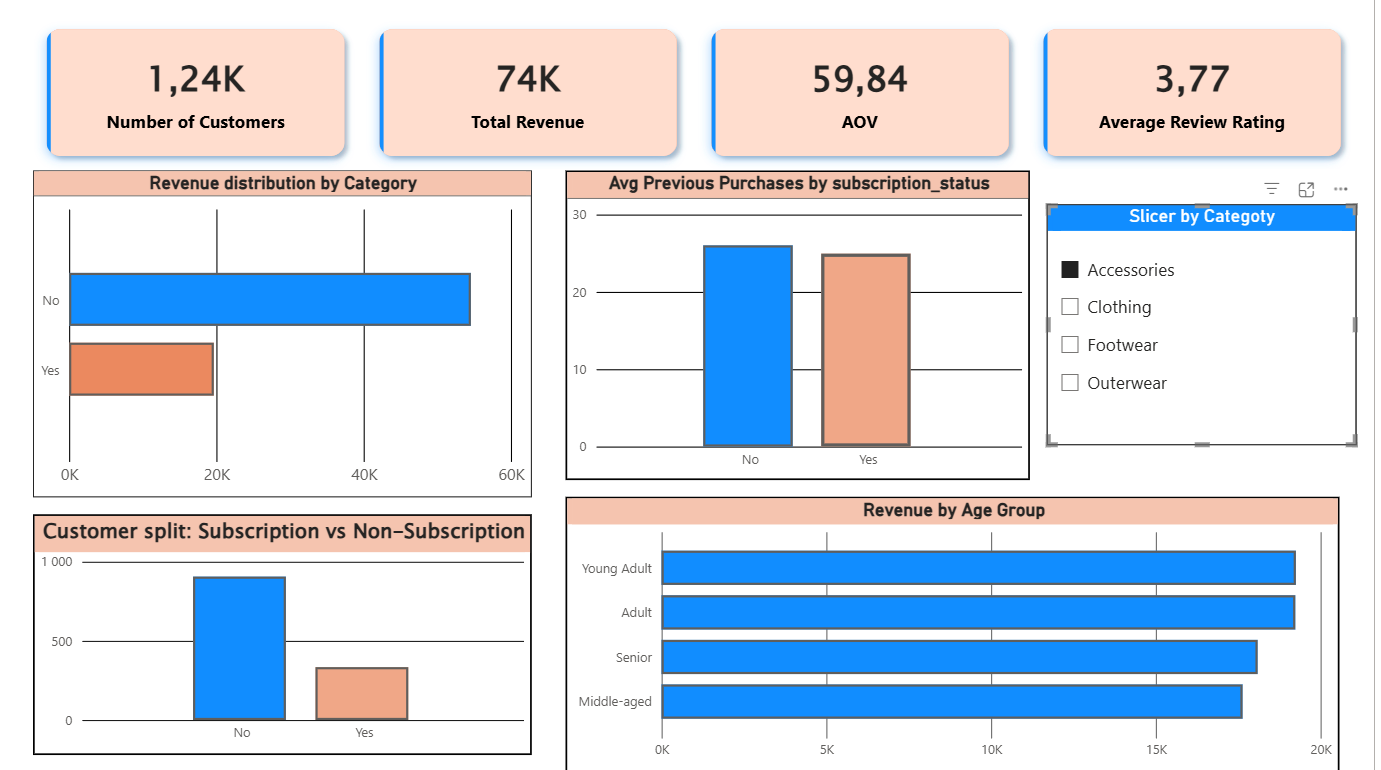

Layout of this report page (visuals, bound fields, positions):
{"tool":"powerbi","page":{"name":"Страница 1","canvas":[1280,720],"ordinal":0},"visuals":[{"type":"cardVisual","fields":{"Data":["public customer.Number of Customers","public customer.Total Revenue","public customer.AOV","public customer.Average Review Rating"]},"box":[16,0,1264,176],"z":0},{"type":"clusteredColumnChart","title":"Customer split: Subscription vs Non-Subscription","fields":{"Category":["public customer.subscription_status"],"Y":["CountNonNull(public customer.customer_id)"]},"box":[32,480,464,224],"z":1000},{"type":"clusteredBarChart","title":"Revenue distribution by Category","fields":{"Category":["public customer.subscription_status"],"Y":["Sum(public customer.purchase_amount)"]},"box":[32,160,464,304],"z":2000},{"type":"clusteredColumnChart","title":"Avg Previous Purchases by subscription_status","fields":{"Category":["public customer.subscription_status"],"Y":["public customer.Avg Previous Purchases"]},"box":[528,160,432,288],"z":3000},{"type":"clusteredBarChart","title":"Revenue by Age Group","fields":{"Category":["public customer.age_group"],"Y":["Sum(public customer.purchase_amount)"]},"box":[528,464,720,256],"z":4000},{"type":"slicer","title":"Slicer by Categoty","fields":{"Values":["public customer.category"]},"box":[976,192,288,224],"z":5000}]}

Visuals, with their boxes in screenshot pixels (x1, y1, x2, y2), scaled from the page's 1280x720 canvas onto the 1381x770 screenshot:
cardVisual - public customer.Number of Customers x public customer.Total Revenue: box(17, 0, 1380, 188)
"Customer split: Subscription vs Non-Subscription" clusteredColumnChart: box(35, 513, 535, 753)
"Revenue distribution by Category" clusteredBarChart: box(35, 171, 535, 496)
"Avg Previous Purchases by subscription_status" clusteredColumnChart: box(570, 171, 1036, 479)
"Revenue by Age Group" clusteredBarChart: box(570, 496, 1346, 769)
"Slicer by Categoty" slicer: box(1053, 205, 1364, 445)
